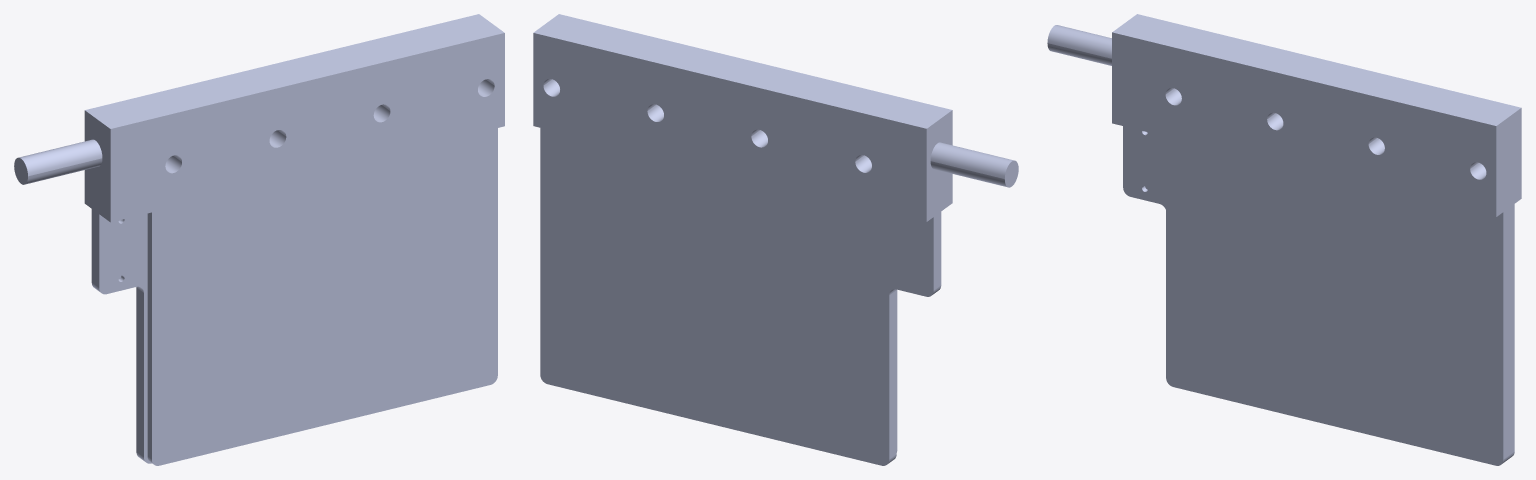
File: MUB-3.glb
The picture shows the model from 3 angles, left to right: view 1: azimuth 30°, elevation 25°; view 2: azimuth 150°, elevation 25°; view 3: azimuth 330°, elevation 25°; orthographic projection. The views are drawn at different scales.
Parts seen in each view (by area): view 1: MUB-3_node_1; view 2: MUB-3_node_1; view 3: MUB-3_node_1.
Boxes of the visible parts, left/top/right/bottom form: MUB-3_node_1: left=14, top=14, right=504, bottom=465; MUB-3_node_1: left=533, top=14, right=1018, bottom=465; MUB-3_node_1: left=1047, top=14, right=1521, bottom=465.
Size of the model in its own units: 126 by 91.3 by 12.
